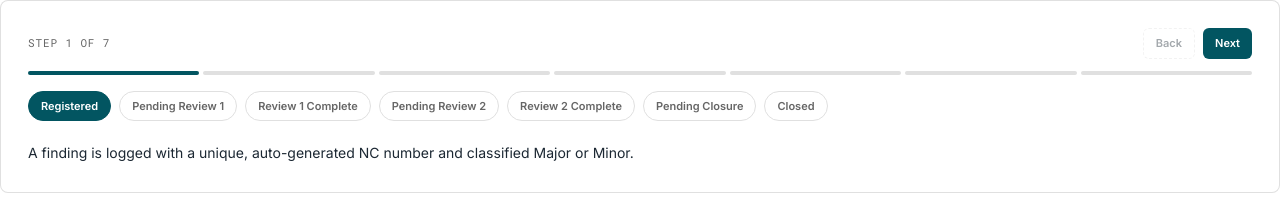
Scenario: lifecycle stepper › moves with Next and Back and shows every stage without scrolling
expect the text "Step 1 of 7" is shown: met, box [28,35,110,52]
Click the button "Next" at x=1228, y=43, box [1203,28,1252,58]
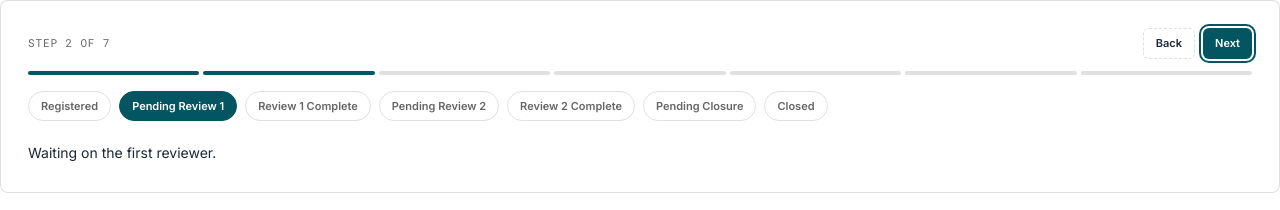
expect the text "Step 2 of 7" is shown: met, box [28,35,110,52]
Click the button "Back" at x=1169, y=43, box [1143,28,1195,58]
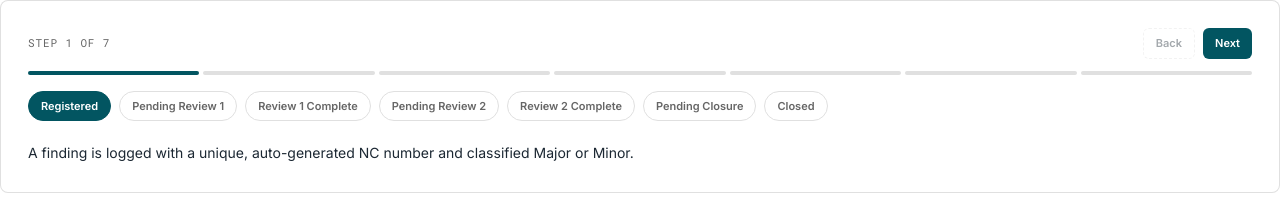
expect the button with test id "lifecycle-stage-6" reads "Closed": met, box [764,90,828,121]
expect the text "Step 1 of 7" is shown: met, box [28,35,110,52]
